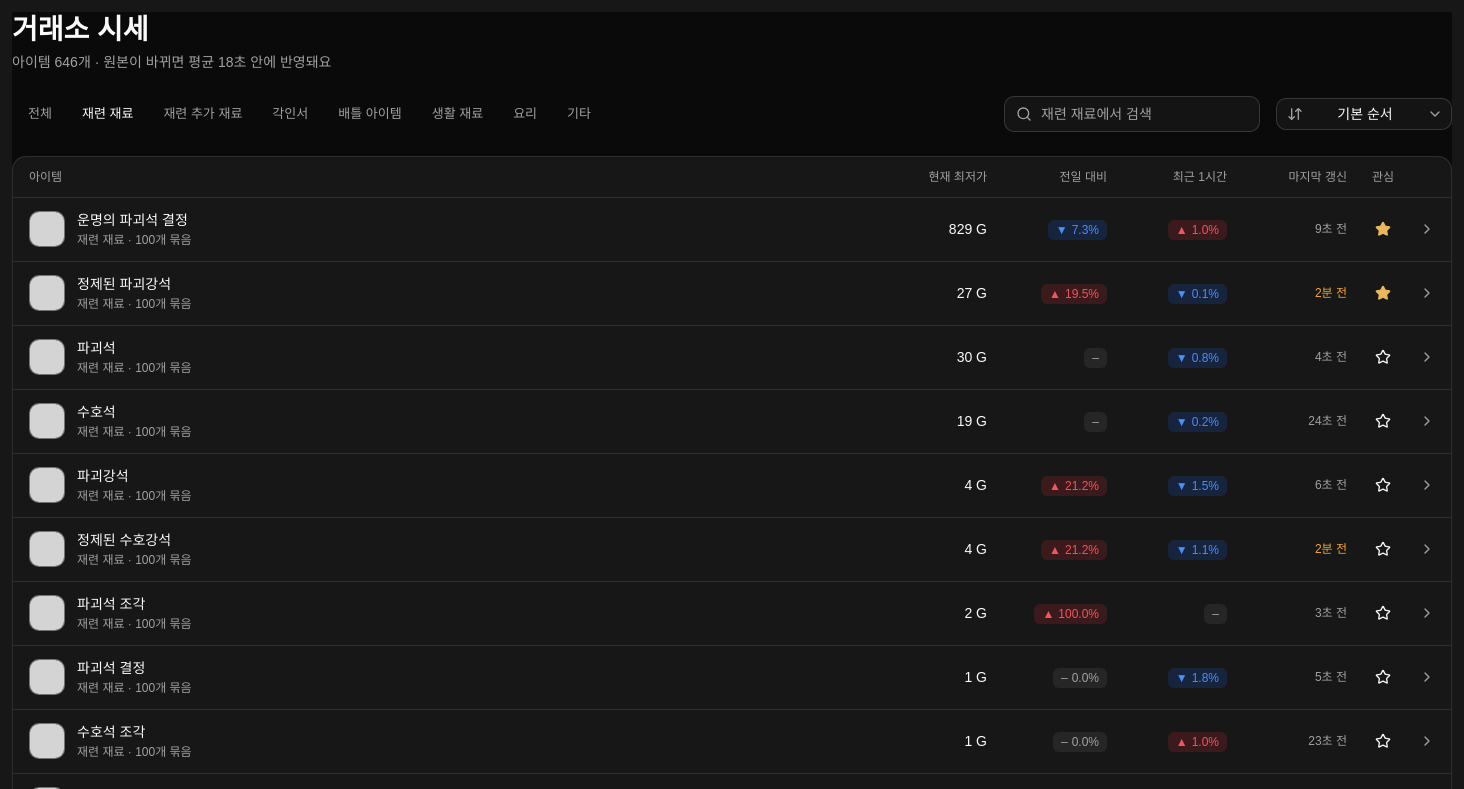
Test: 관심 별 › 로그인했으면 누를 때마다 등록과 해제가 바뀐다
Click the button named "파괴석 관심 등록".
click(1383, 357)  # box top-left (1369, 343), bottom-right (1397, 371)
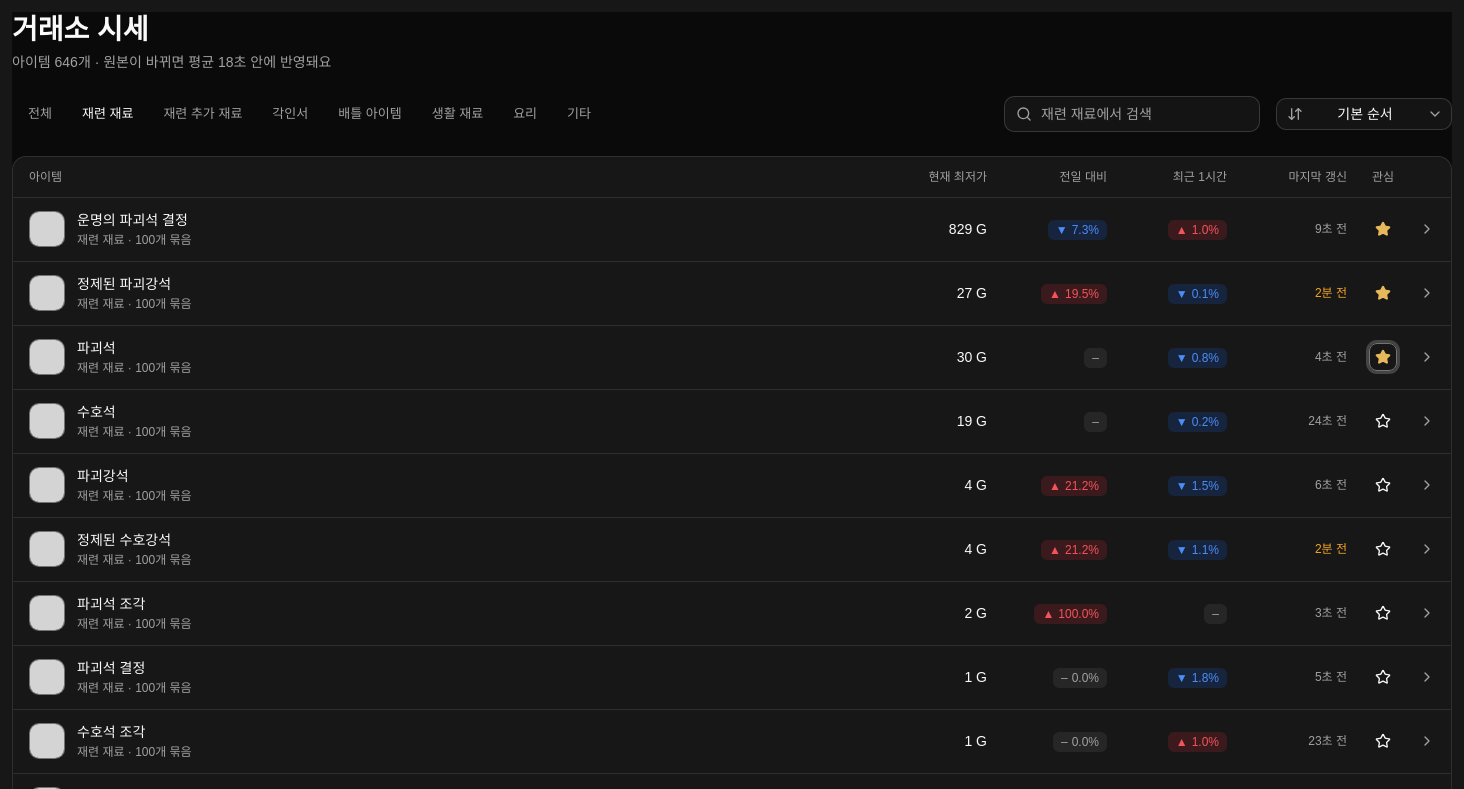
Expected: the button named "파괴석 관심 해제" is pressed
Click the button named "파괴석 관심 해제".
click(1383, 357)  # box top-left (1369, 343), bottom-right (1397, 371)
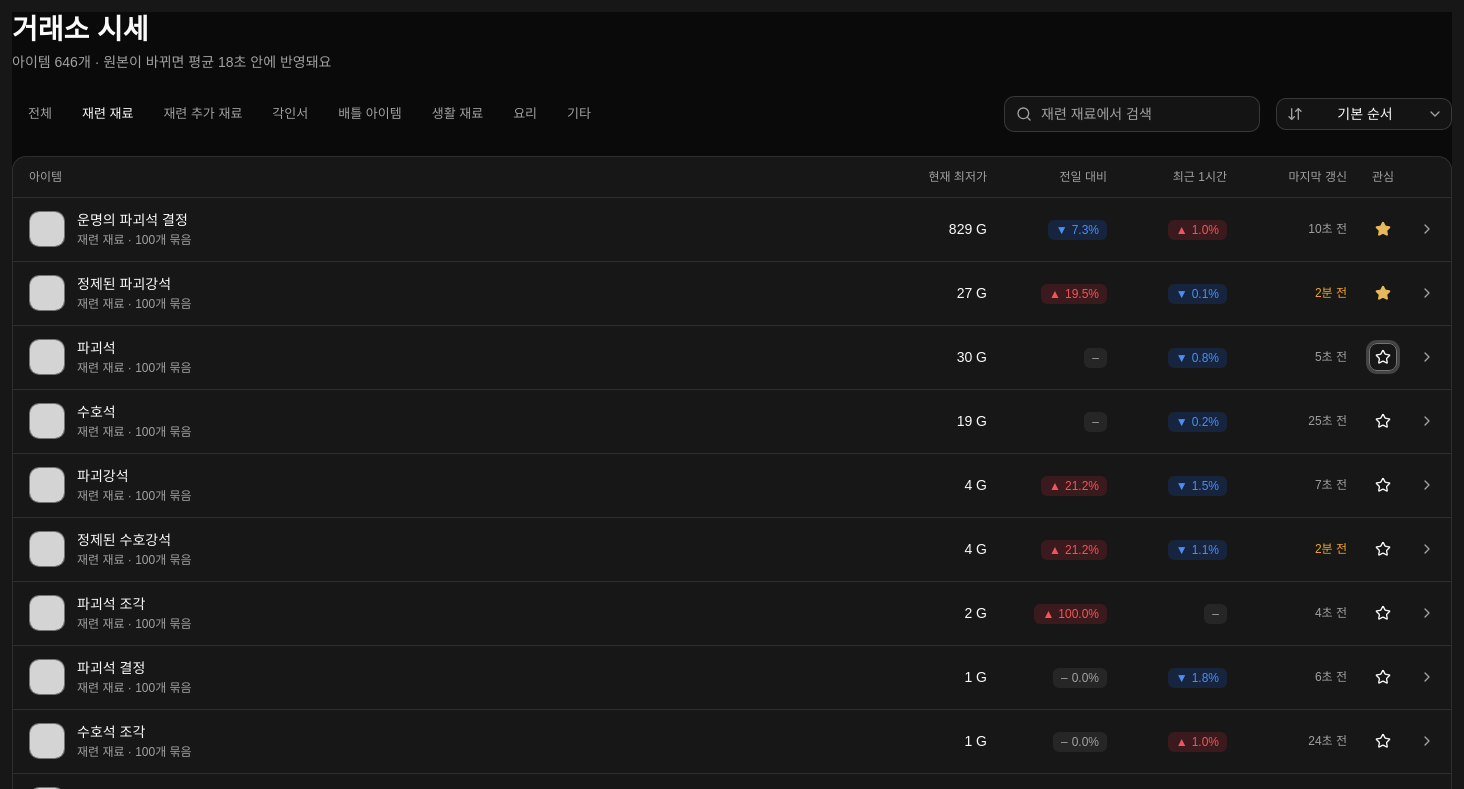
Expected: the button named "파괴석 관심 등록" is shown, top-left (1369, 343), bottom-right (1397, 371)
